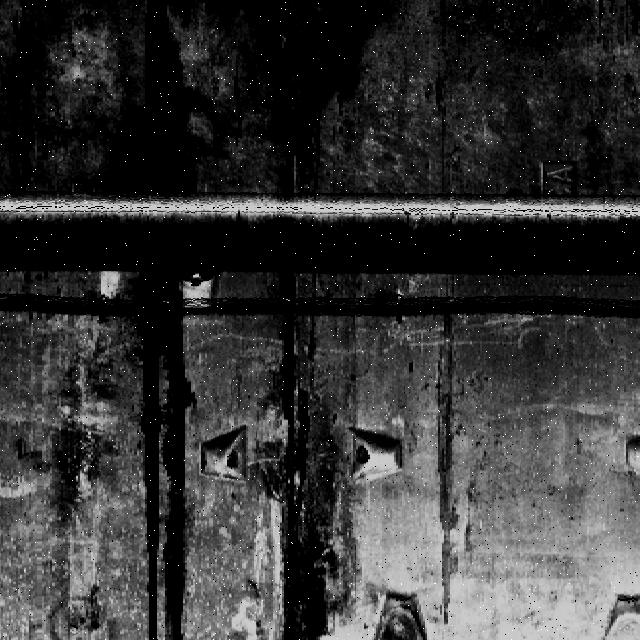leakage: (257, 279, 350, 639), (238, 1, 404, 201), (83, 1, 223, 211), (131, 276, 185, 640)
